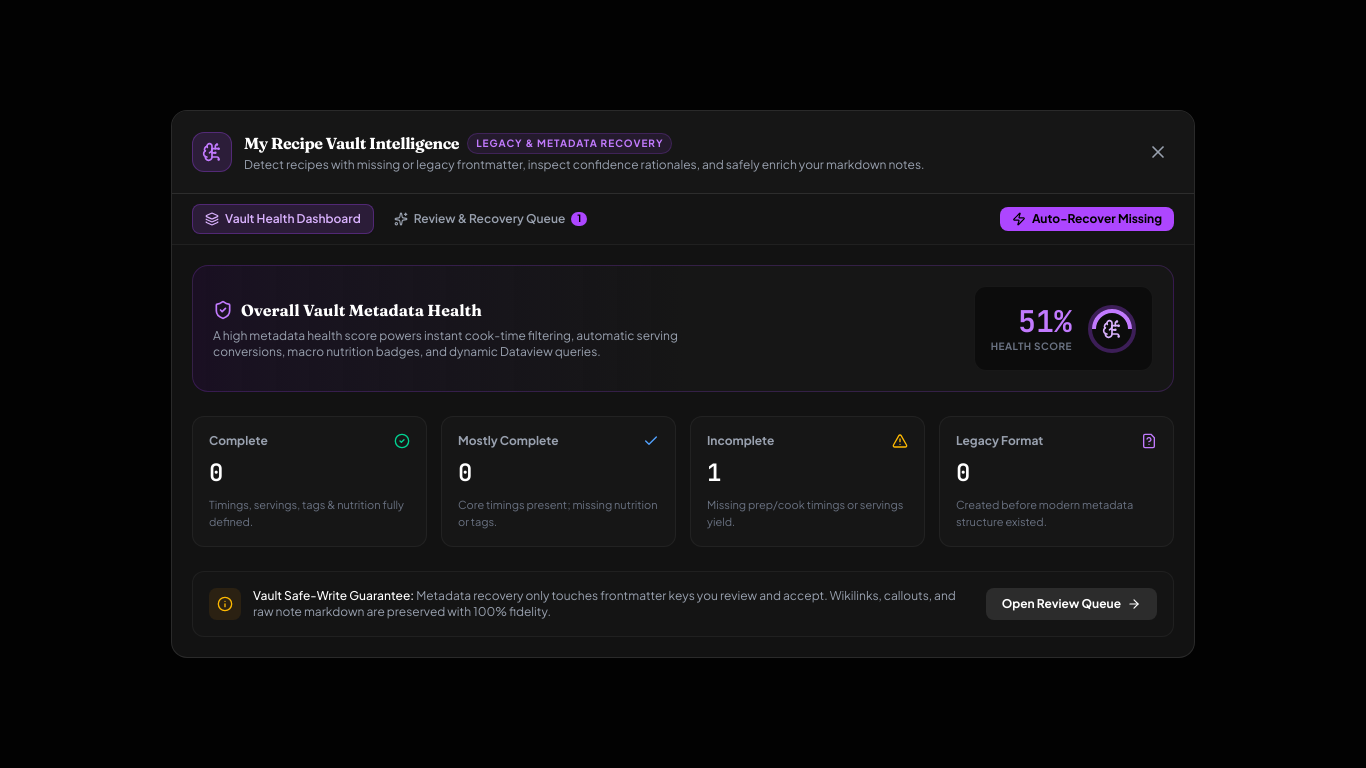
Scenario: F1 — Vault Intelligence secure preview (mounted) › fails closed with a bounded placeholder when the adapter has no binary path
Click the text "Review & Recovery Queue" at (490, 219), box [414, 211, 565, 227]
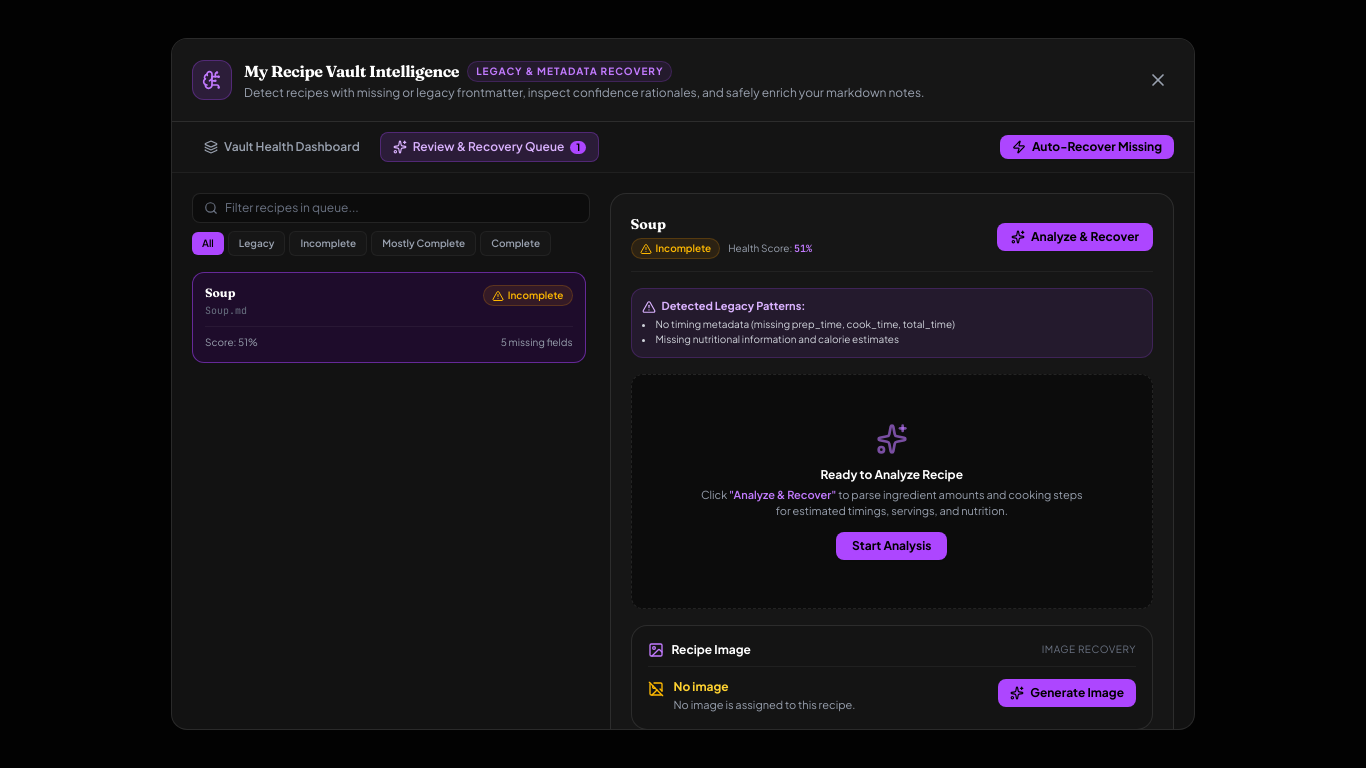
Expected: the button with test id "generate-image" is shown
Click the button with test id "generate-image" at (1067, 693), box [998, 679, 1136, 707]
(page scrolled)
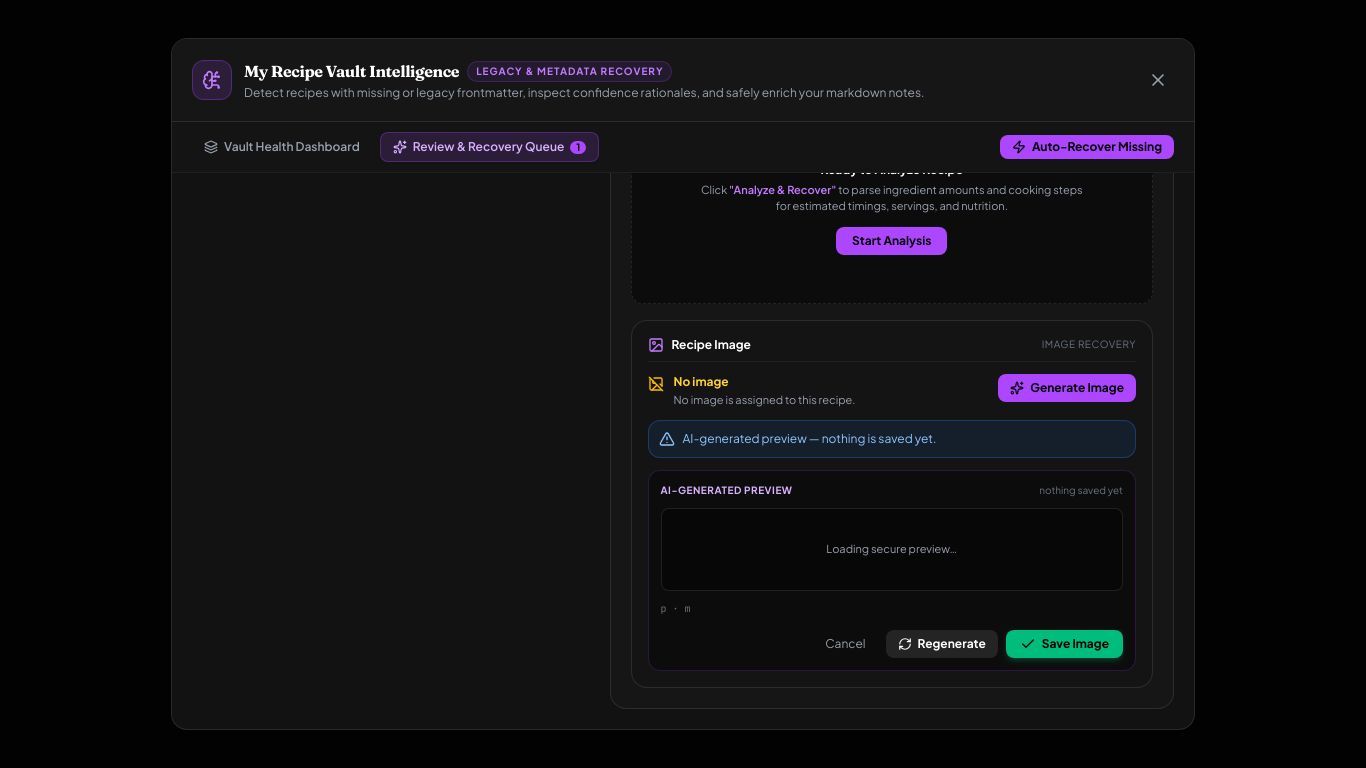
Expected: the message "Loading secure preview…" is shown, [660, 508, 1123, 591]
